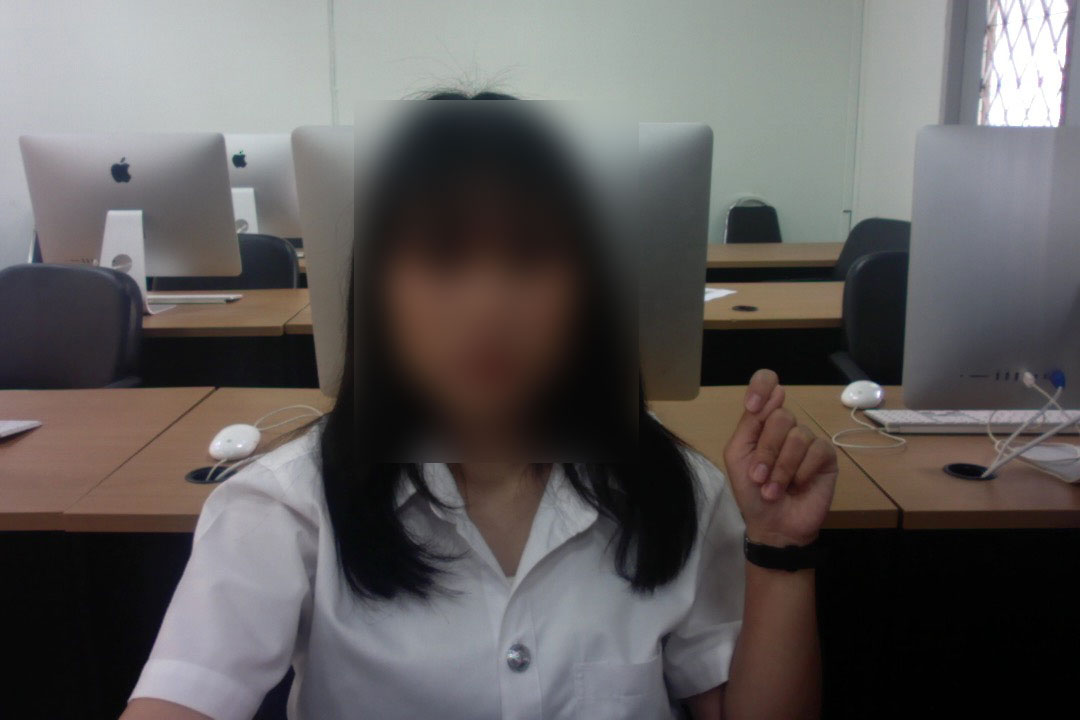tor: (715, 365, 842, 569)
